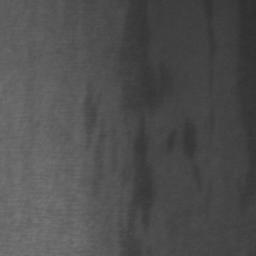Inclusion: (120, 0, 173, 111), (119, 125, 155, 256), (183, 118, 198, 159)
